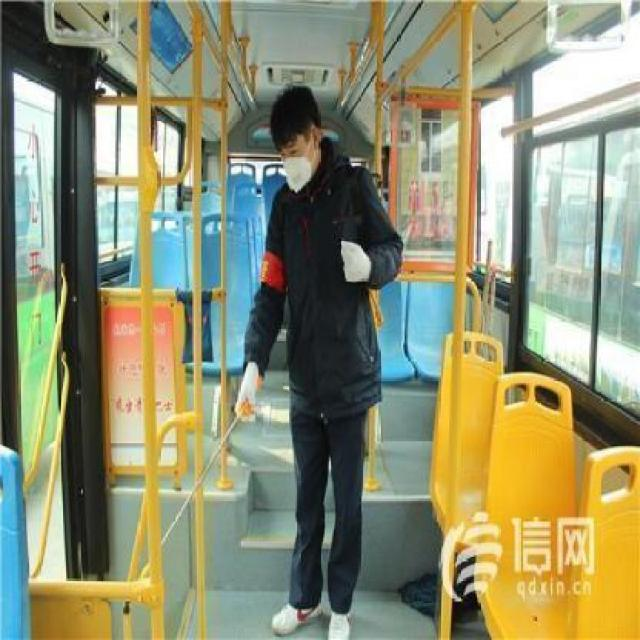face_mask: (272, 134, 318, 195)
hand_glove: (232, 358, 257, 424), (338, 238, 369, 284)
head_nohelmet: (263, 94, 320, 146)
person: (208, 83, 402, 640)
